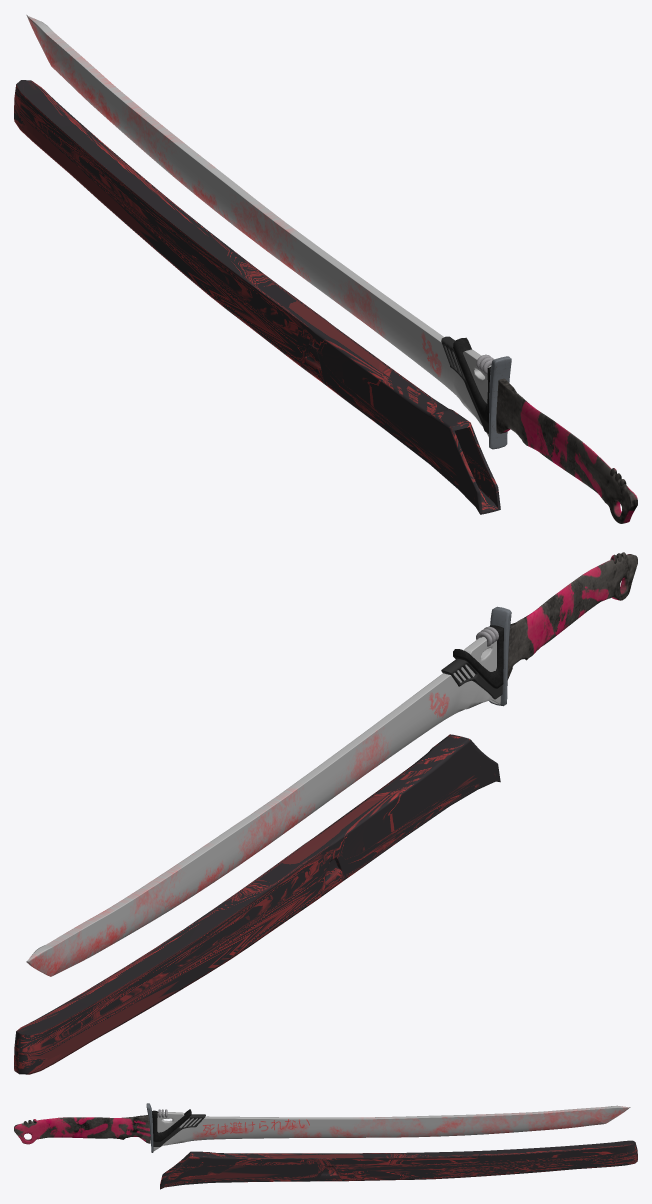
The model's file is katana.glb.
3 views of the same model, one above another, from view 1: azimuth 30°, elevation 25°; view 2: azimuth 150°, elevation 25°; view 3: azimuth 270°, elevation 25° (orthographic). The views are drawn at different scales.
Bounding box in the file's own units: 0.02 × 0.1508 × 1.03.
Materials: 7 (7 with a texture image).
